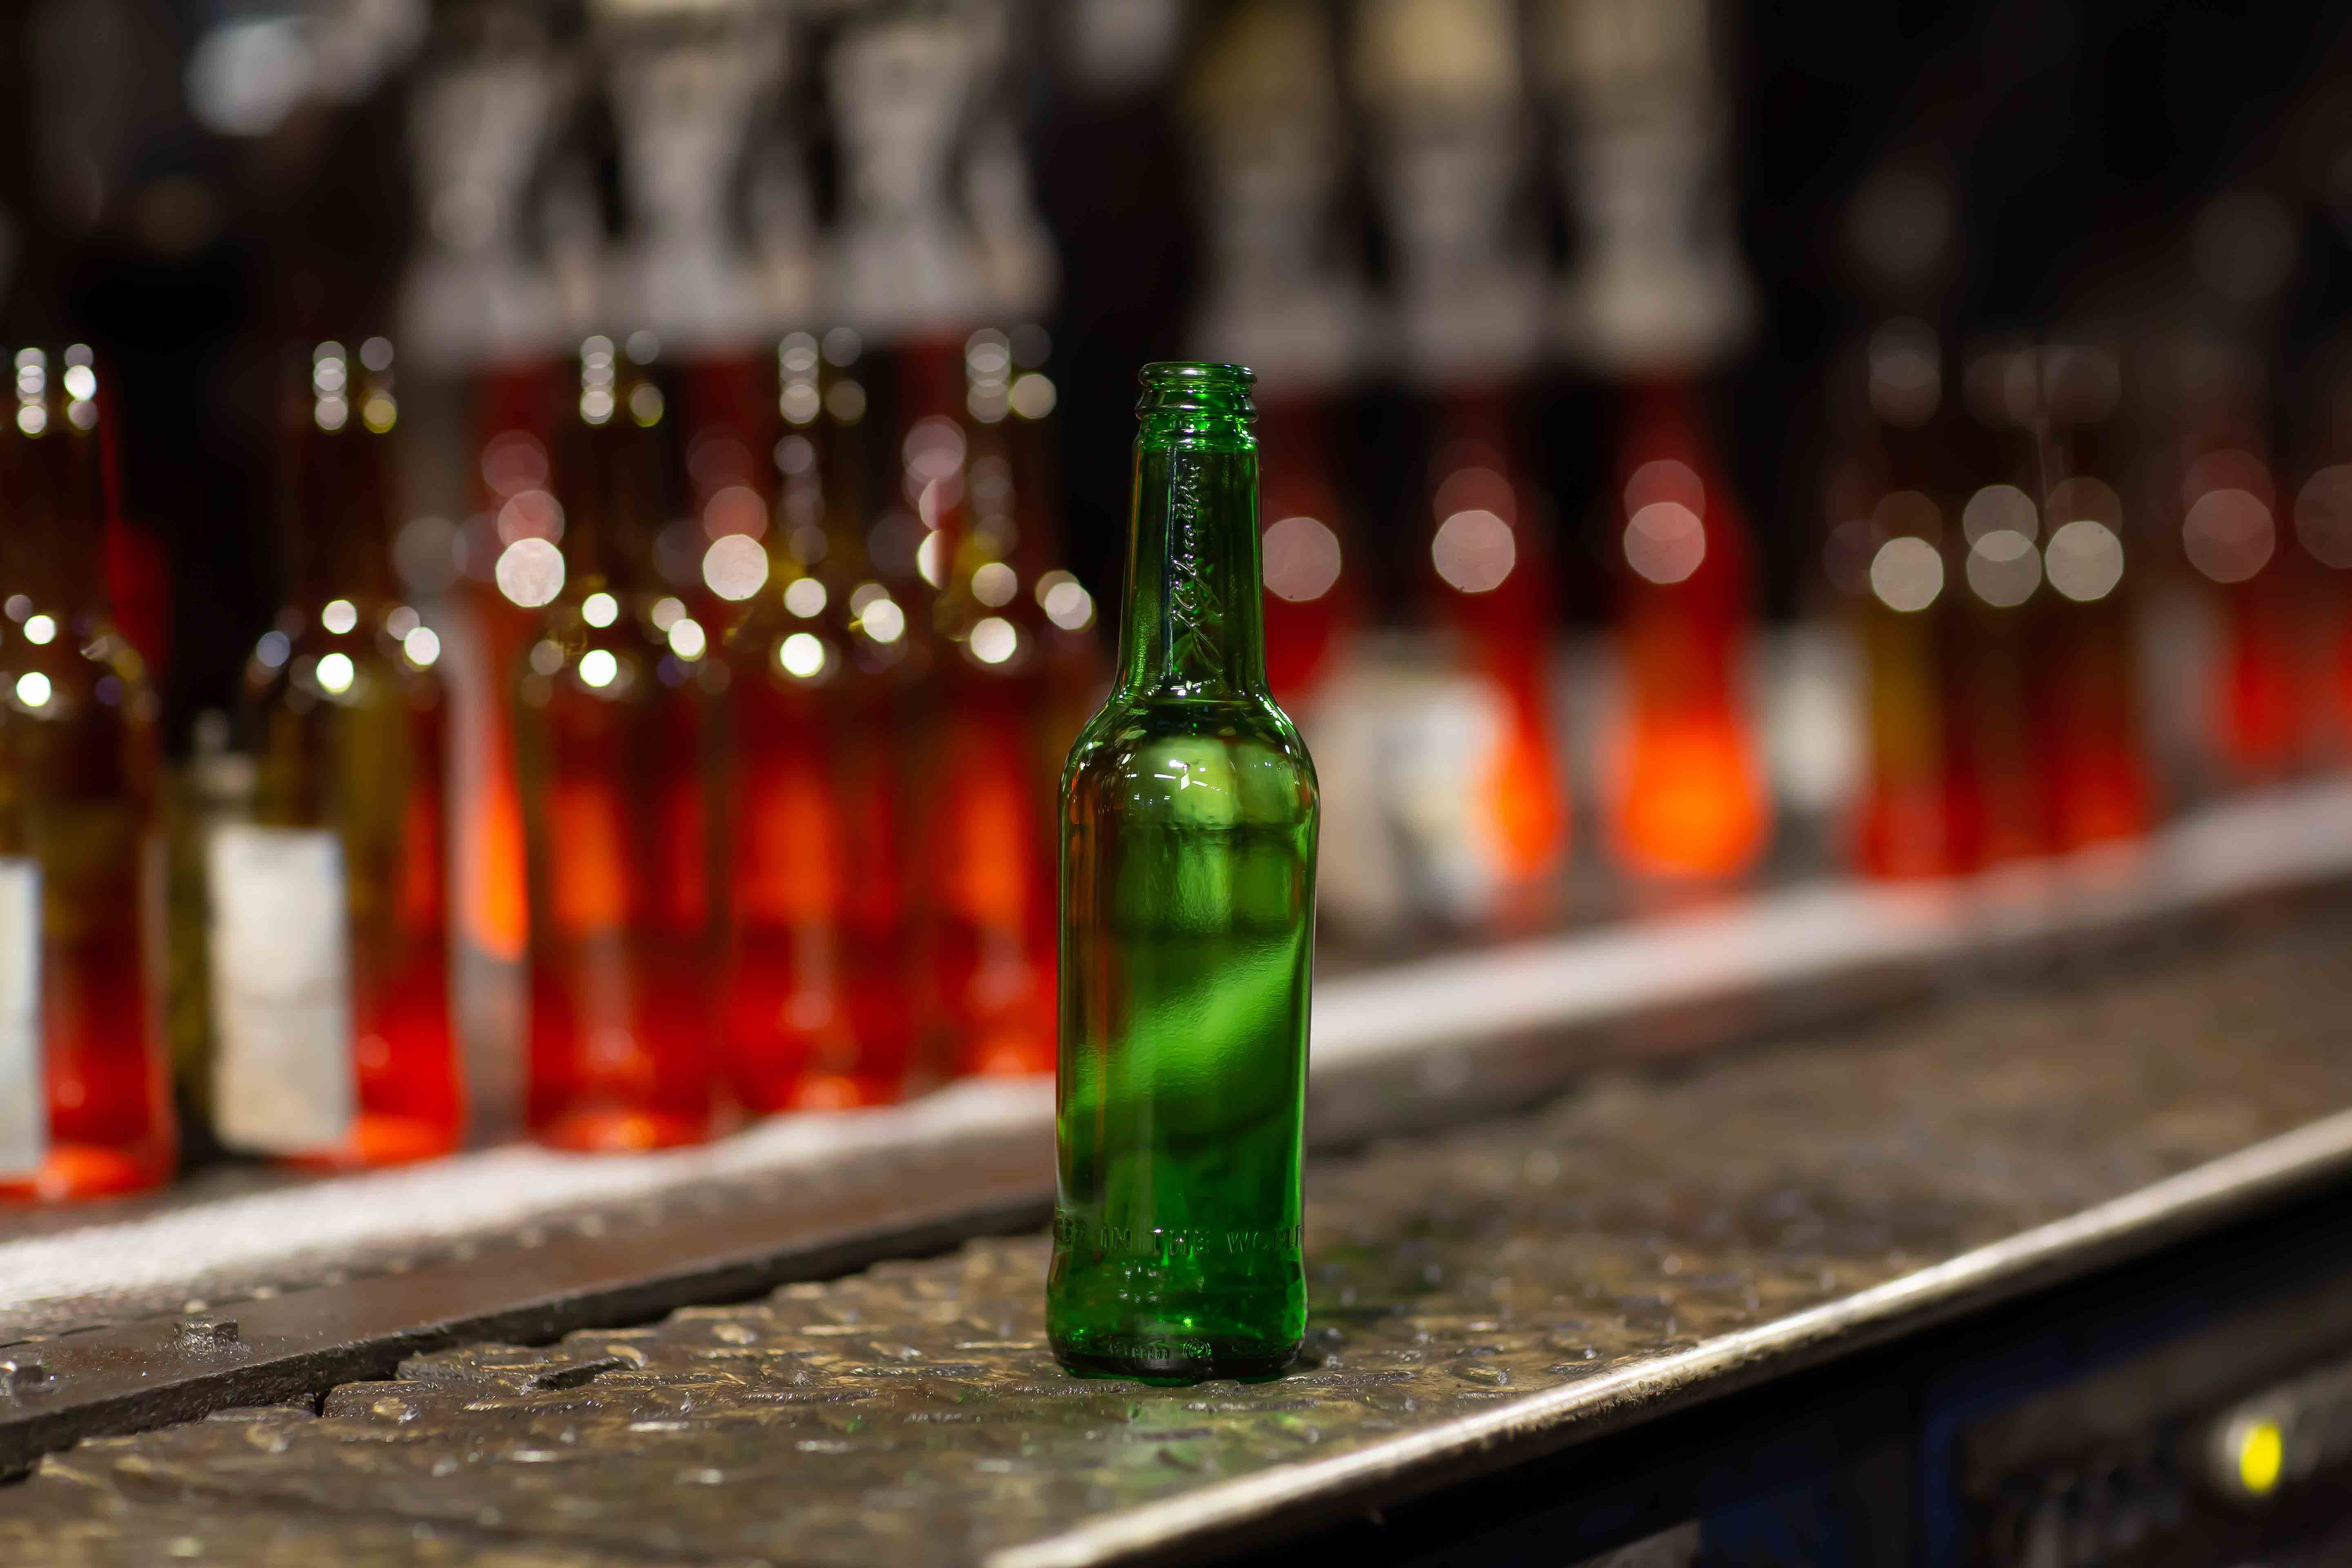glass_bottle: (1041, 352, 1330, 1391)
